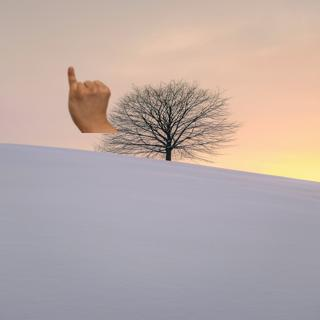FINE: (64, 65, 114, 125)
